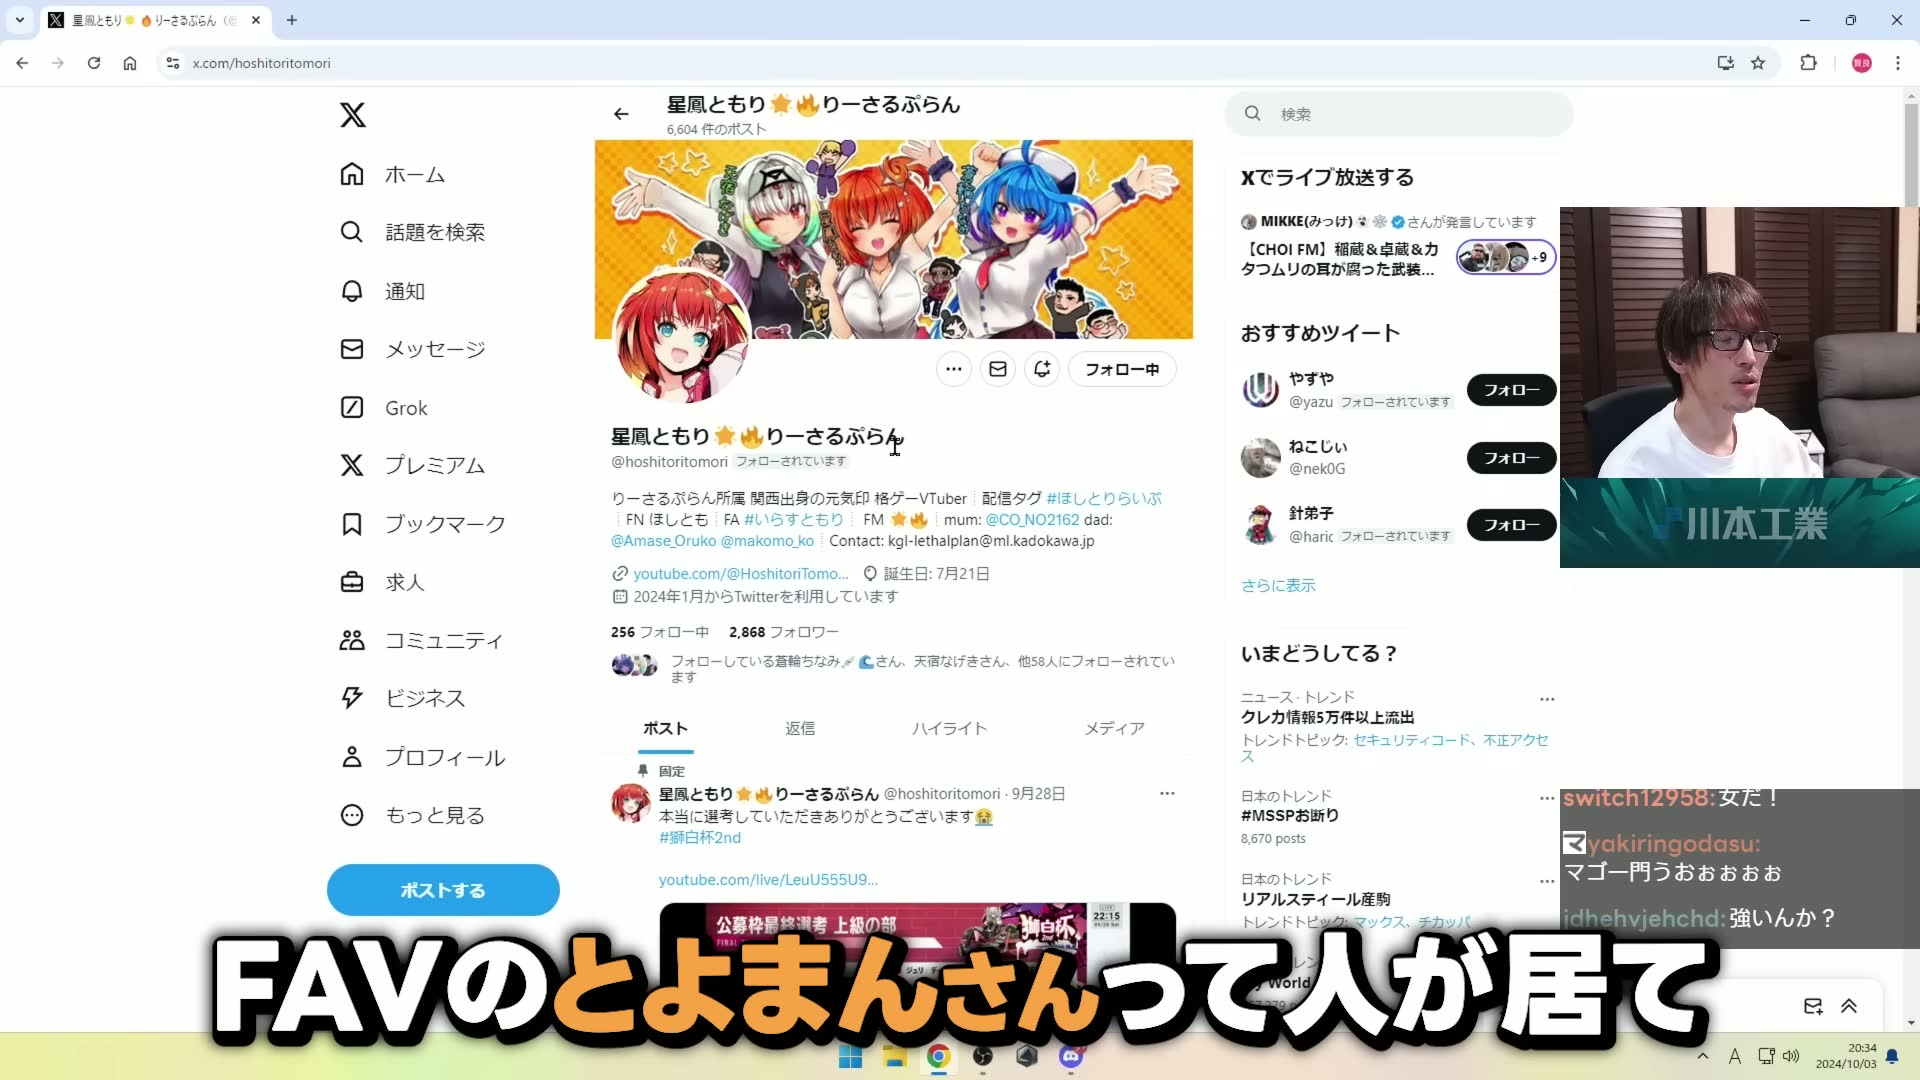stream_tag: (1564, 204, 1920, 475)
